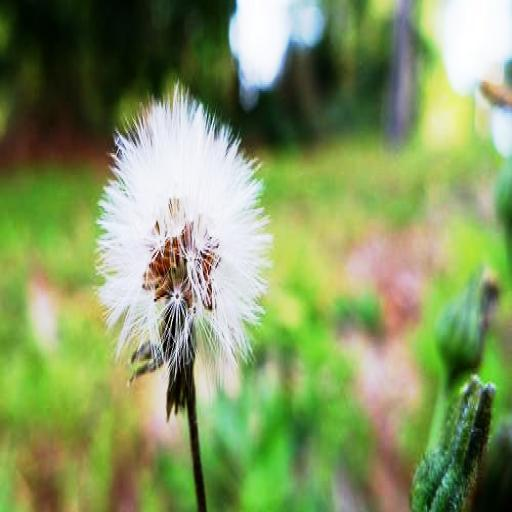dandelion: (98, 82, 270, 377)
